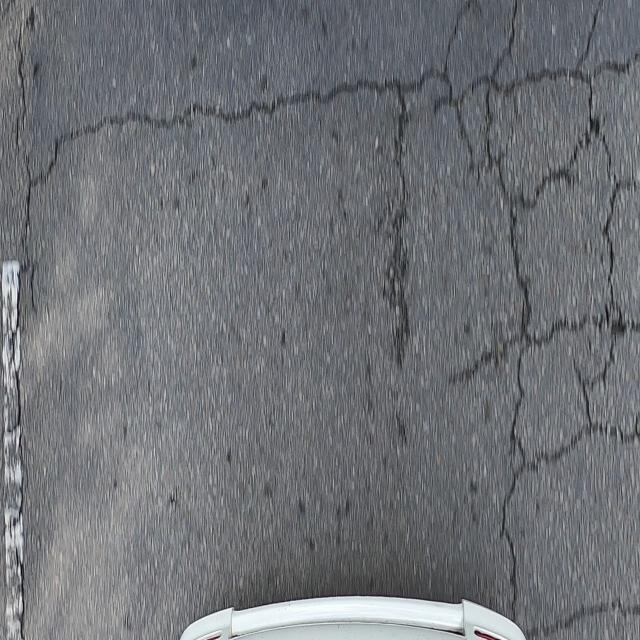Retak-Buaya: (442, 0, 640, 640)
Retak-Melintang: (33, 70, 444, 186)
Retak-Memanjang: (15, 19, 37, 316), (11, 275, 26, 638)
